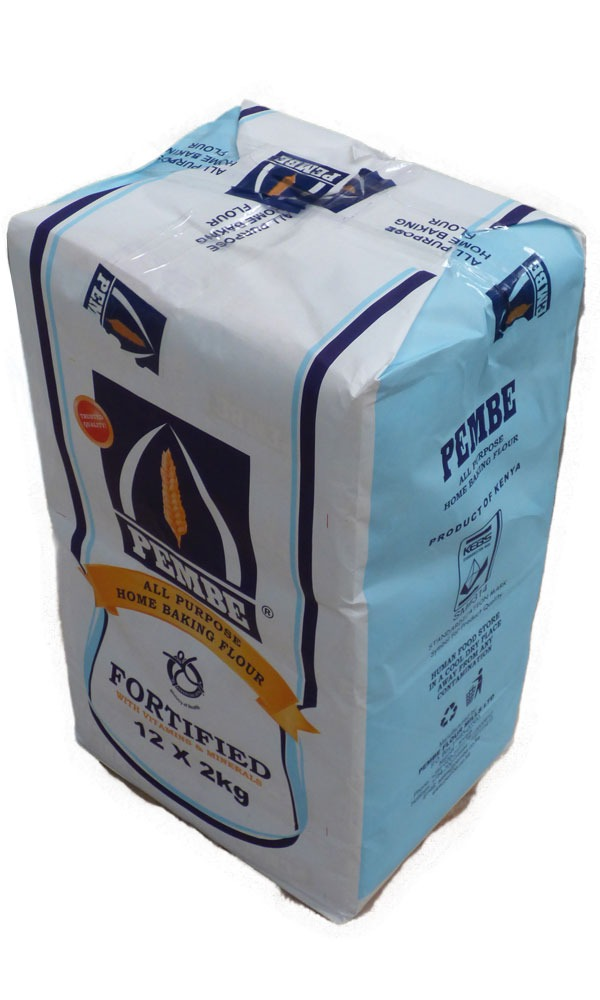wheat_flour_blue_label: (11, 104, 583, 911)
